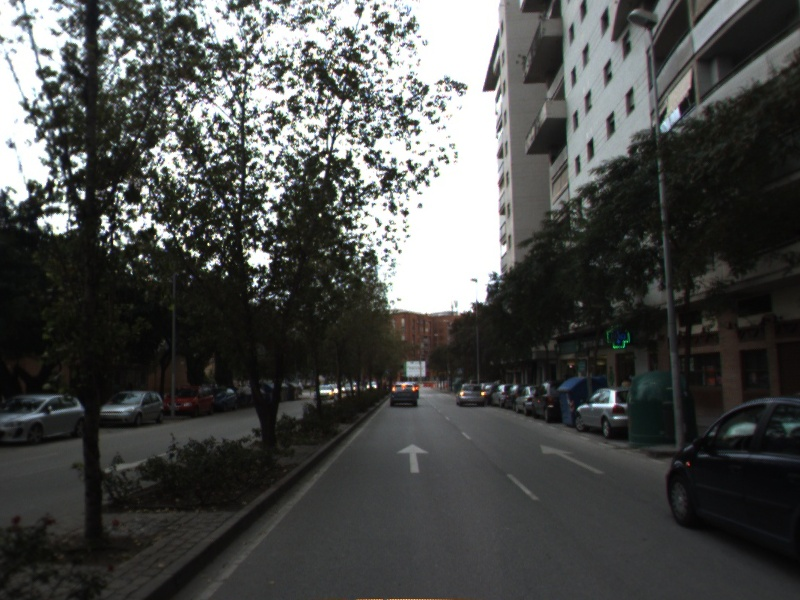STRAIGHT: (537, 441, 609, 476), (394, 440, 433, 475)
